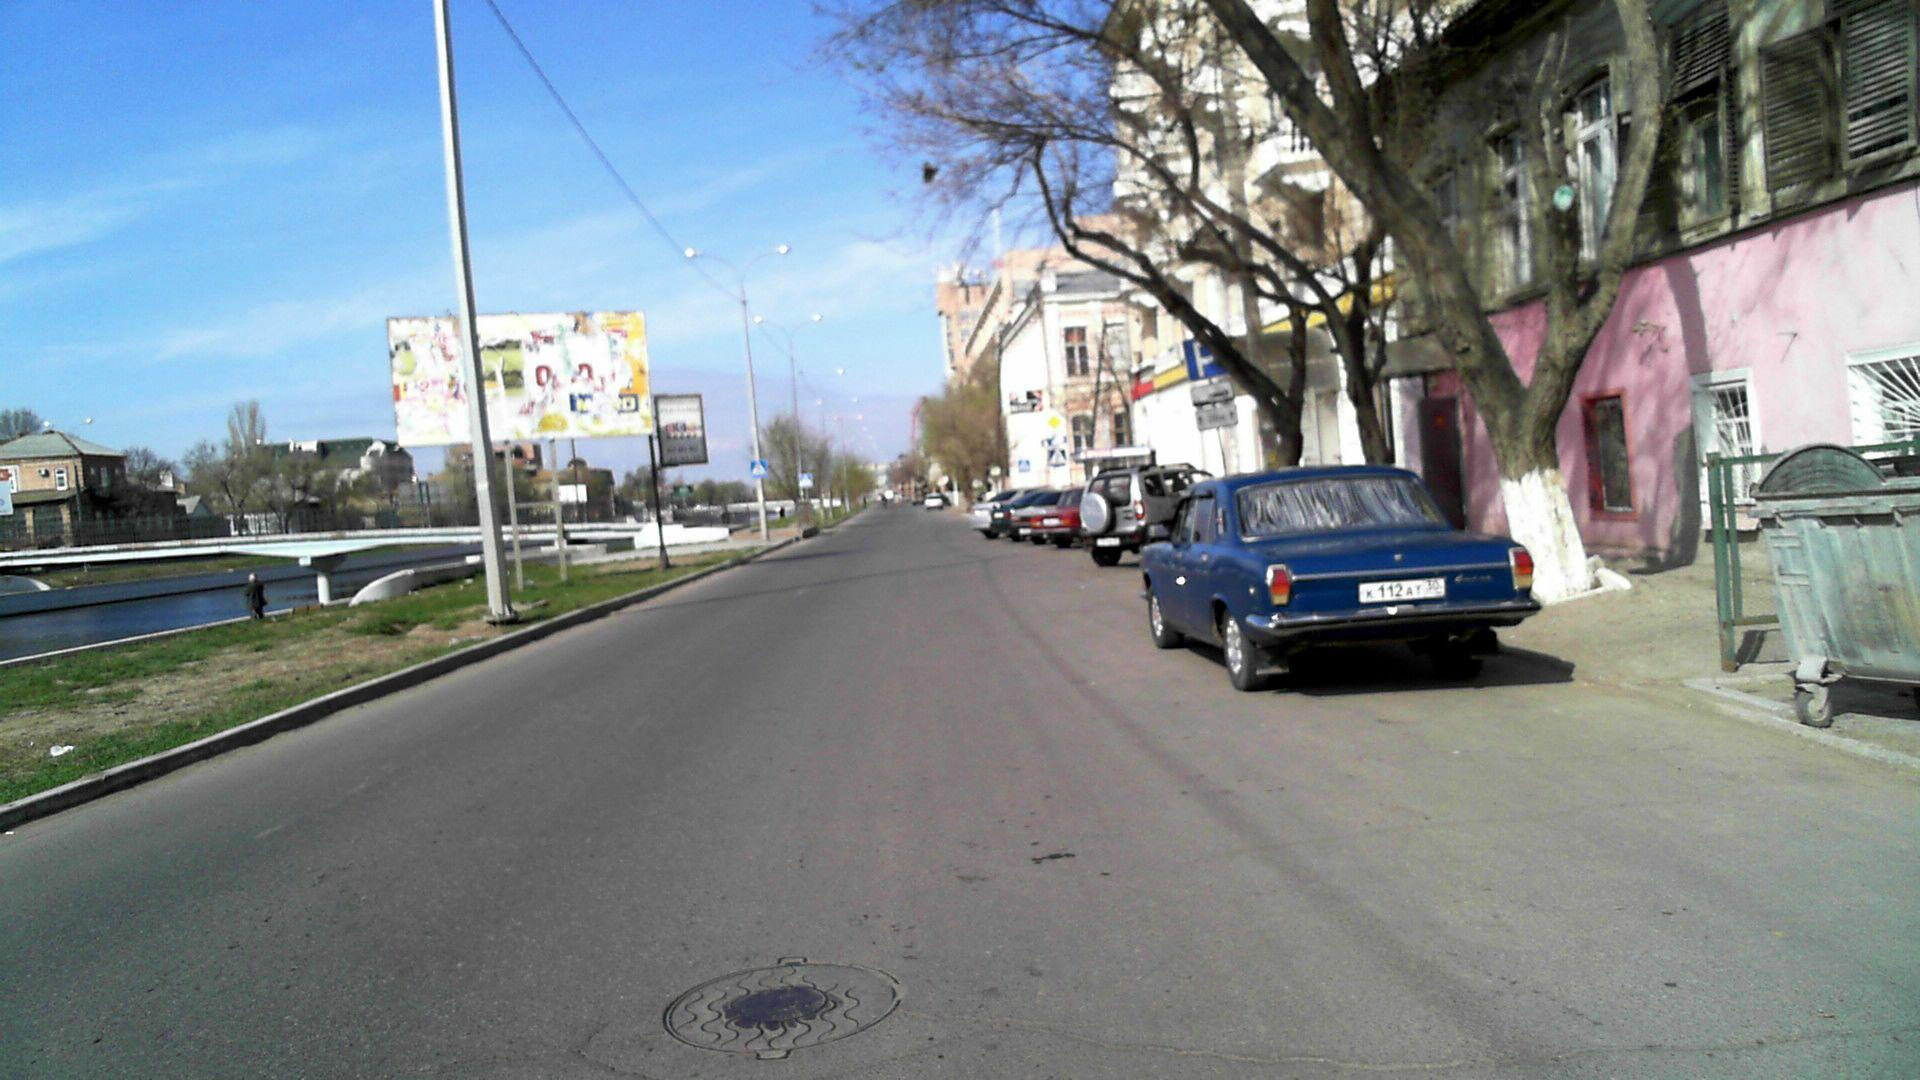2_1: (1044, 409, 1065, 433)
5_19_1: (1047, 447, 1069, 469), (1018, 459, 1031, 473)
5_19_2: (749, 459, 769, 481), (798, 471, 816, 491)
6_15_1: (1039, 435, 1069, 447)
6_4: (1180, 334, 1229, 377)
8_2_1: (1193, 405, 1240, 430)
8_6_5: (1192, 384, 1236, 404)
